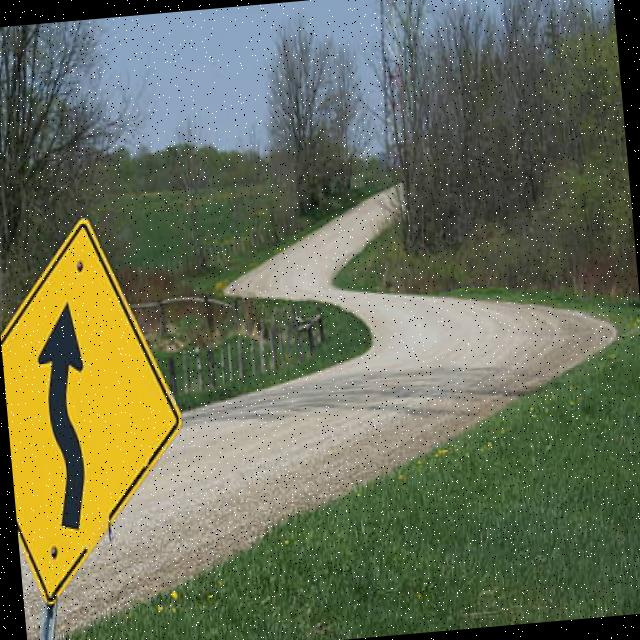left_sharp_curve: (0, 201, 212, 603)
